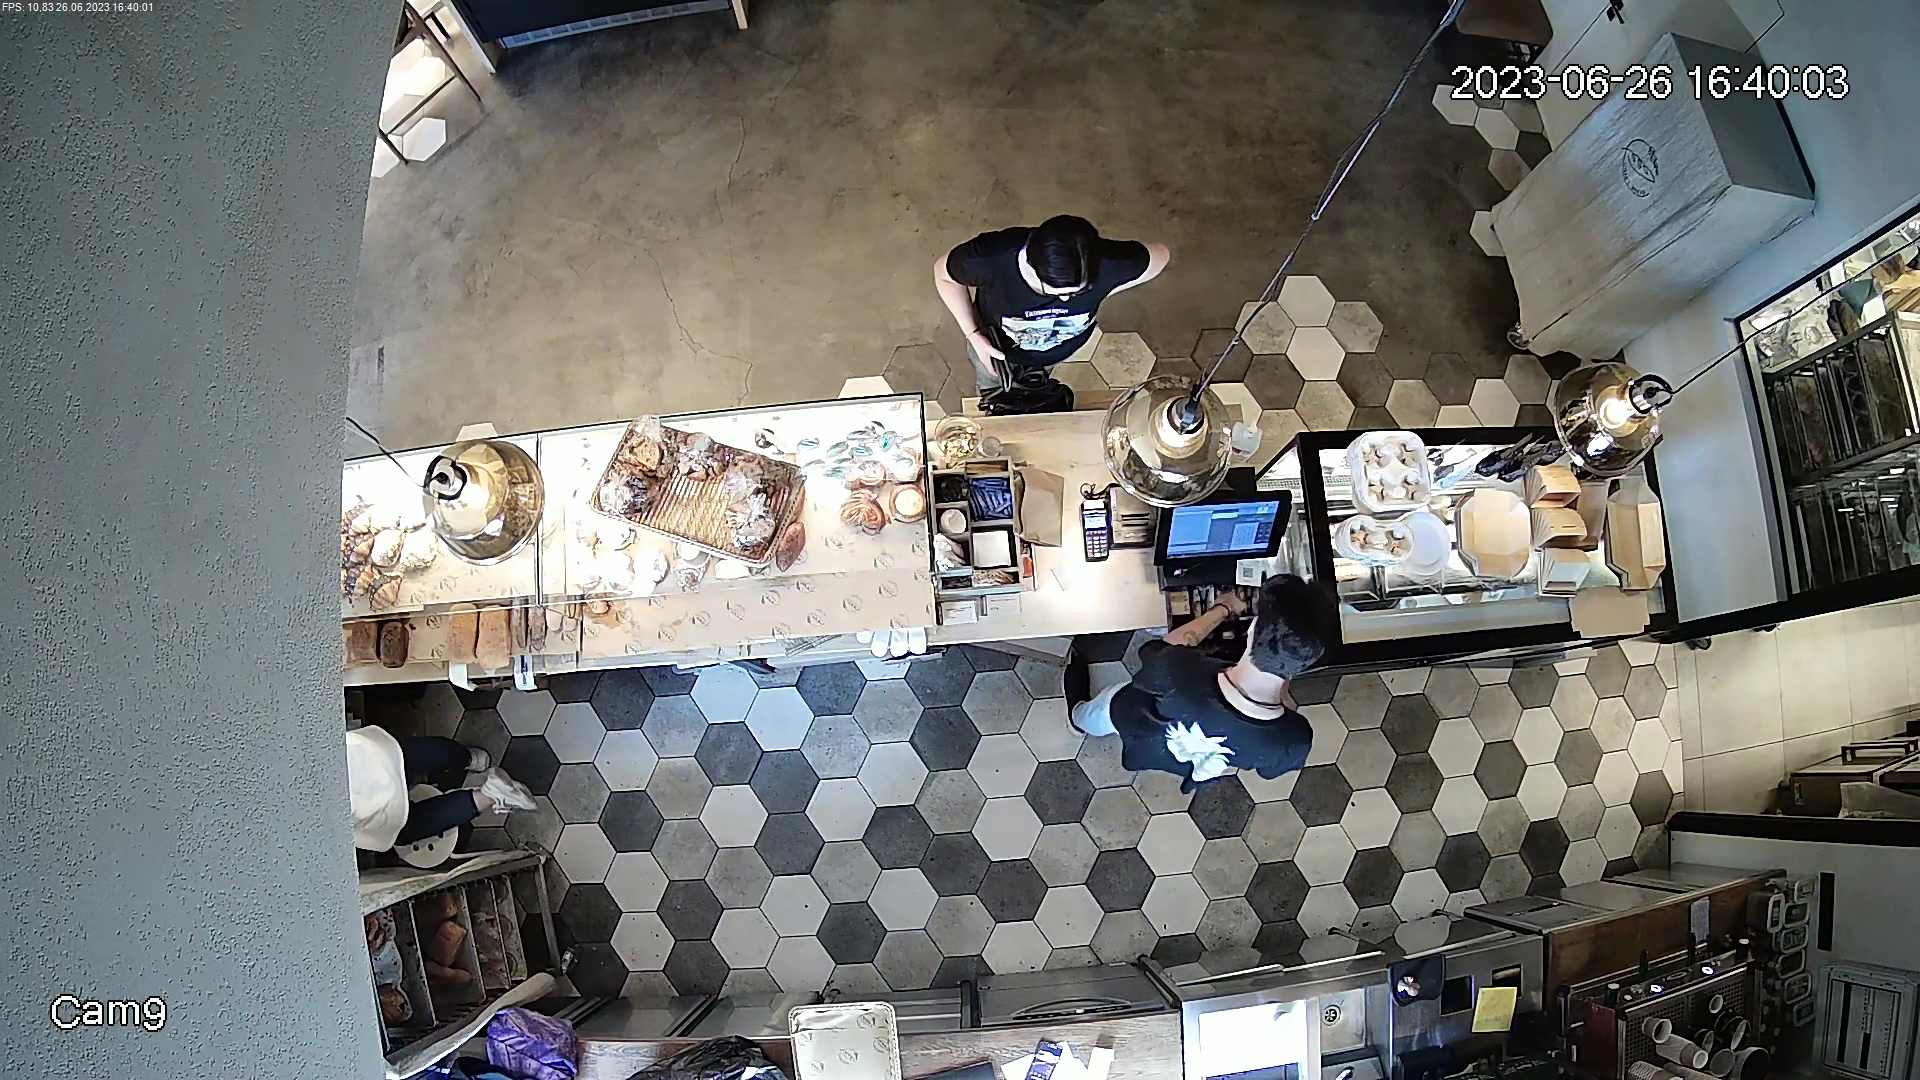openedcash: (1155, 491, 1294, 646)
pack: (1007, 464, 1068, 549)
